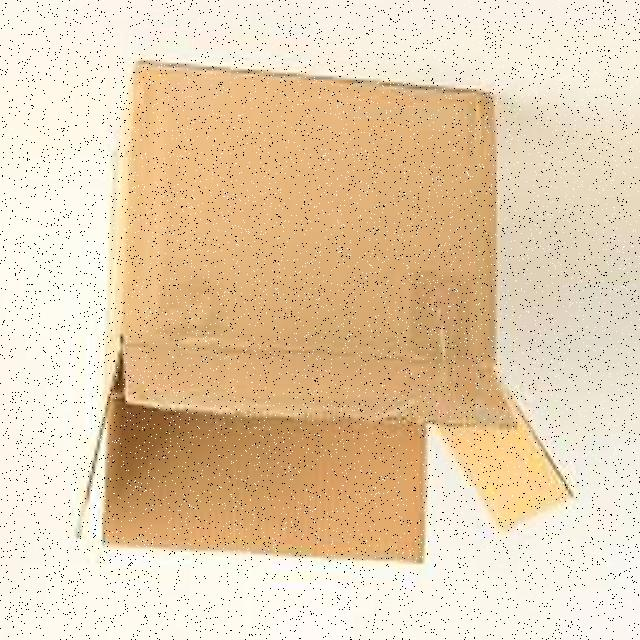defect: (71, 52, 580, 571)
